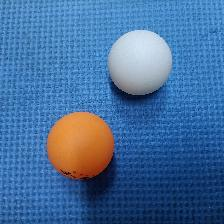WhiteBall: (107, 29, 172, 96)
YellowBall: (46, 111, 114, 180)
